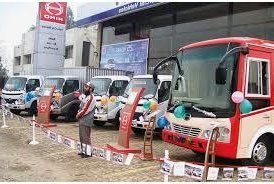bus: (152, 38, 273, 164)
